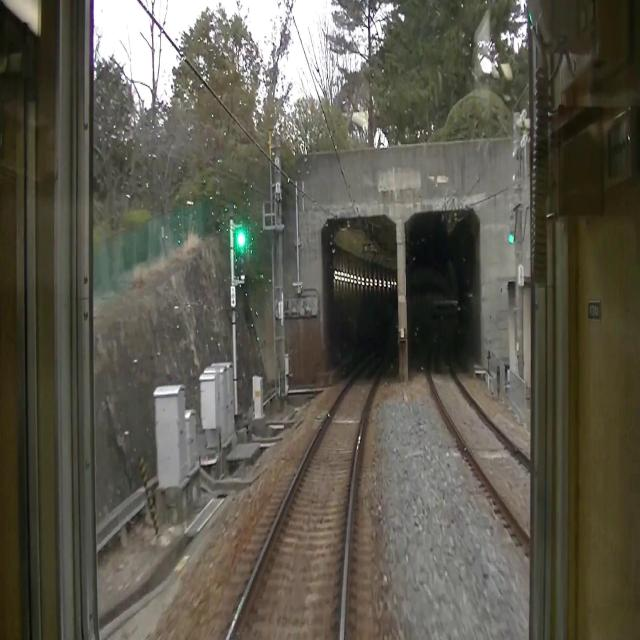rail-track: (230, 338, 397, 639), (430, 315, 528, 524)
